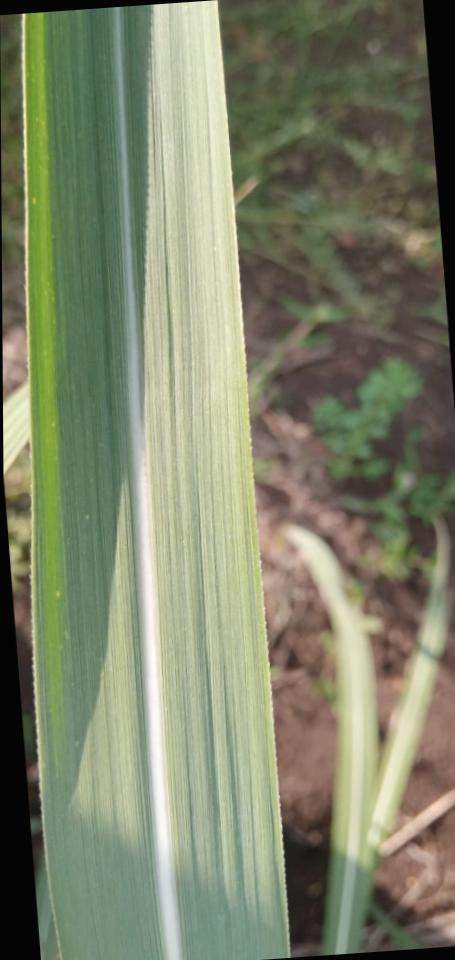Healthy: (22, 1, 287, 960)
